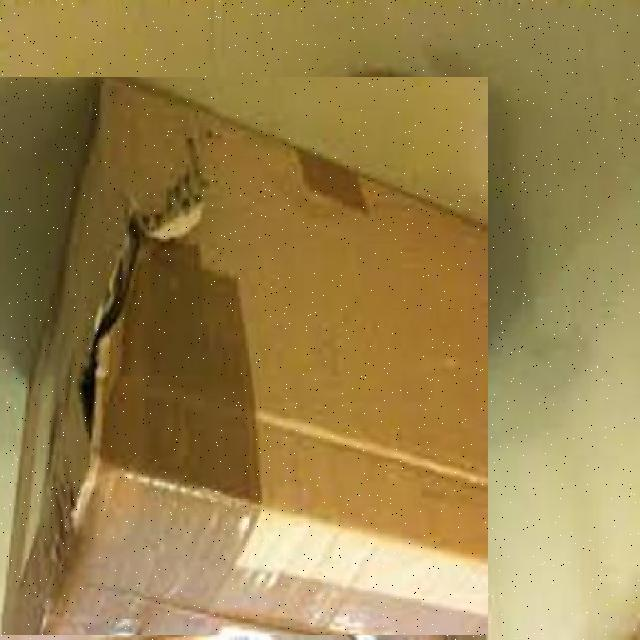defect: (0, 77, 488, 635)
